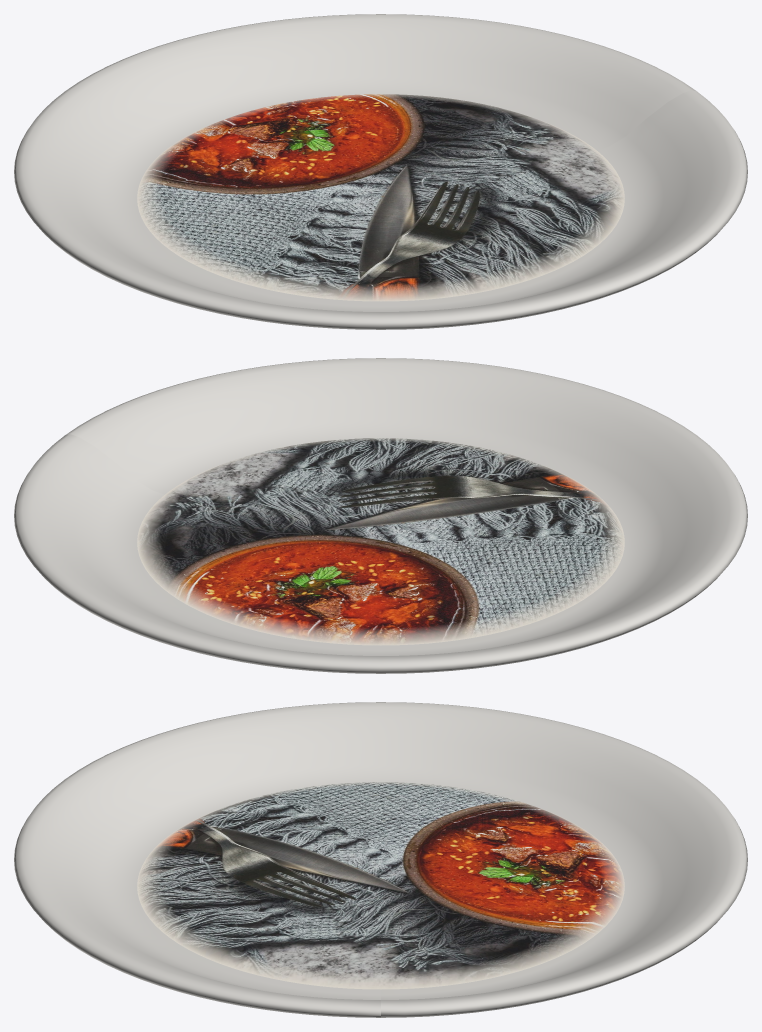
File: sauce-graine.glb
The picture shows the model from 3 angles, top to bottom: view 1: azimuth 30°, elevation 25°; view 2: azimuth 150°, elevation 25°; view 3: azimuth 270°, elevation 25°; orthographic projection.
Visible parts, largest first — view 1: assiette, plat; view 2: assiette, plat; view 3: assiette, plat.
Boxes of the visible parts, x1,y1,x2,y2 form: assiette: (14, 14, 747, 329); plat: (137, 94, 624, 301); assiette: (14, 358, 747, 673); plat: (137, 438, 624, 645); assiette: (14, 702, 747, 1017); plat: (137, 782, 624, 989).
Bounding box in the file's own units: 0.301 × 0.0232 × 0.301.
2 materials, 1 textured.
